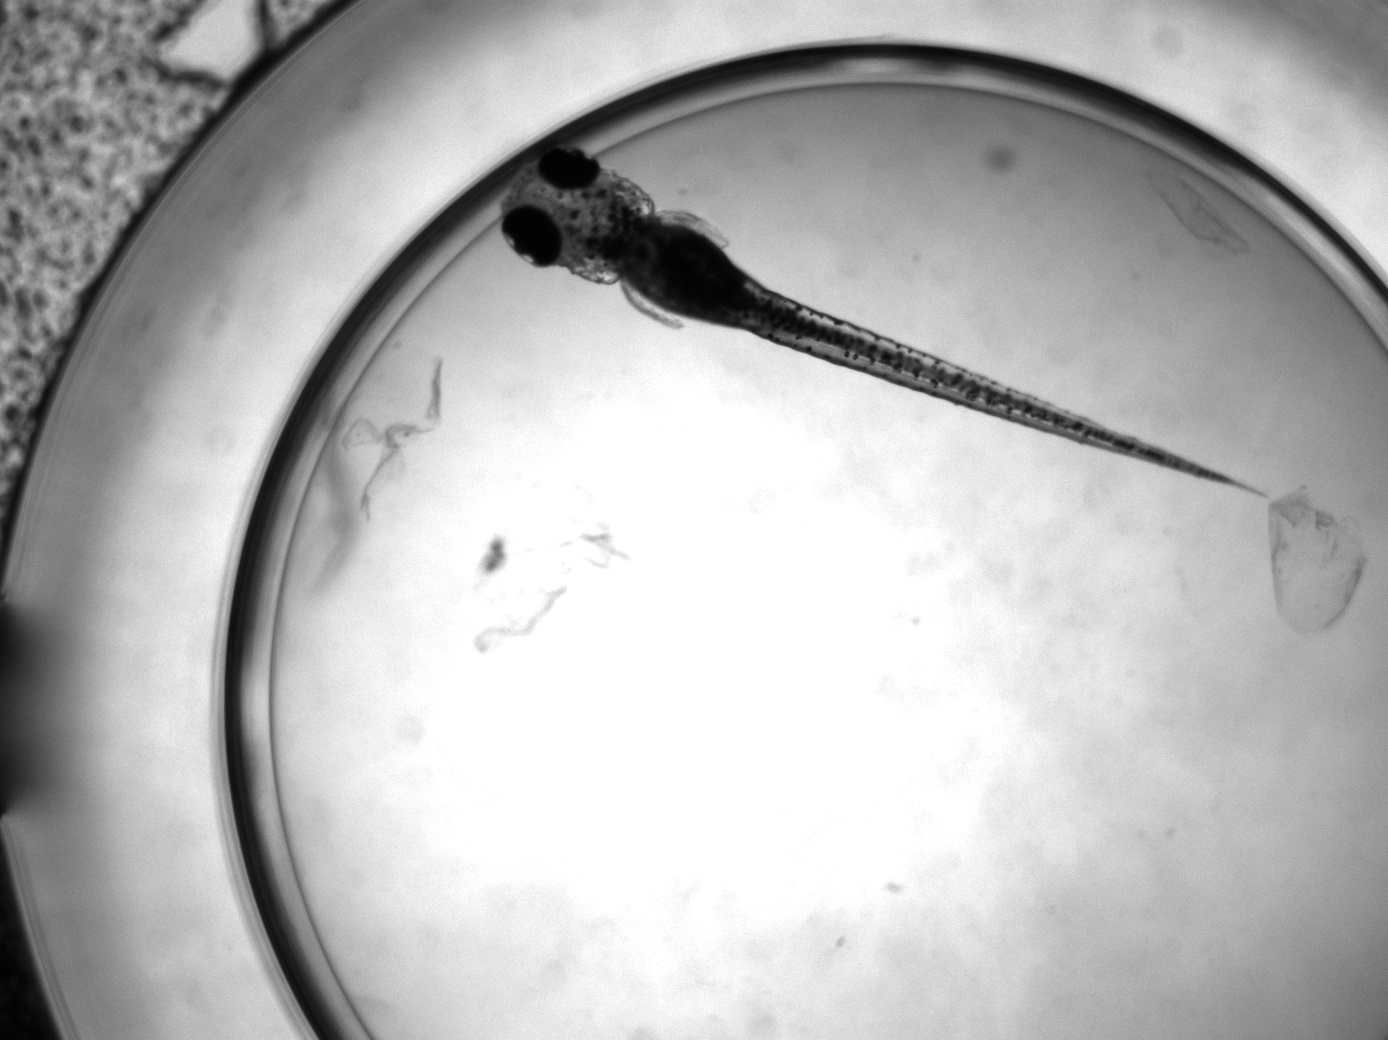debris: (1269, 487, 1368, 638)
embryo: (501, 147, 1267, 500)
eye: (502, 206, 566, 269), (534, 147, 600, 190)
yolksac: (625, 218, 763, 334)
